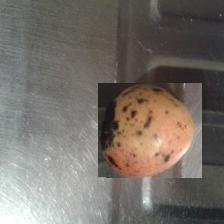Mango Semirotten: (98, 84, 202, 179)
